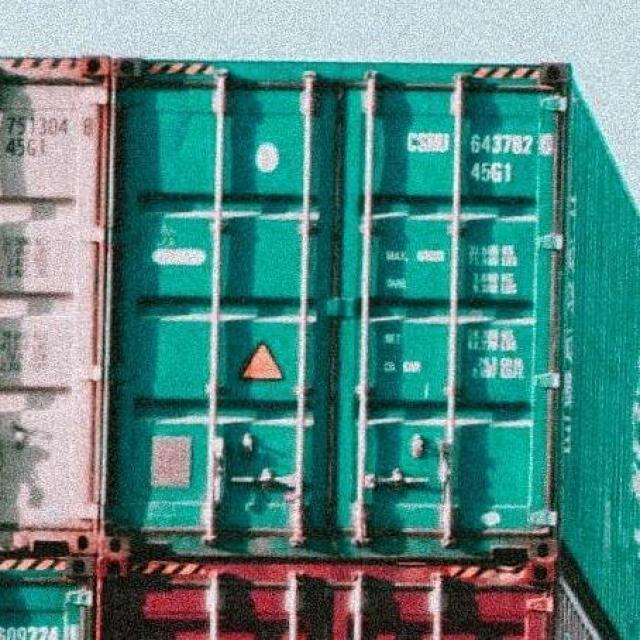ISO: (472, 160, 516, 184)
container_number: (408, 134, 554, 156)
